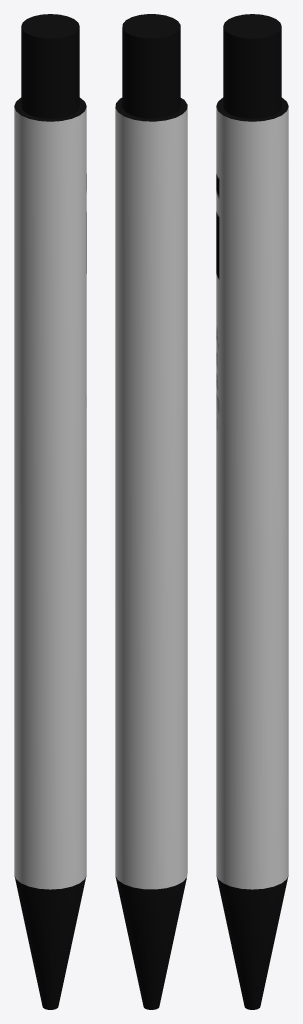
File: Aato_pen.fbx
The picture shows the model from 3 angles, left to right: view 1: azimuth 90°, elevation 25°; view 2: azimuth 150°, elevation 25°; view 3: azimuth 270°, elevation 25°; orthographic projection.
Parts seen in each view (by area): view 1: pCylinder1; view 2: pCylinder1; view 3: pCylinder1.
Part boxes in pixels (left/top/right/bottom): pCylinder1: left=14, top=14, right=86, bottom=1009; pCylinder1: left=115, top=14, right=187, bottom=1009; pCylinder1: left=216, top=14, right=288, bottom=1009.
Size of the model in its own units: 0.000345 by 0.00514 by 0.000345.
Materials: 1 (1 with a texture image).
